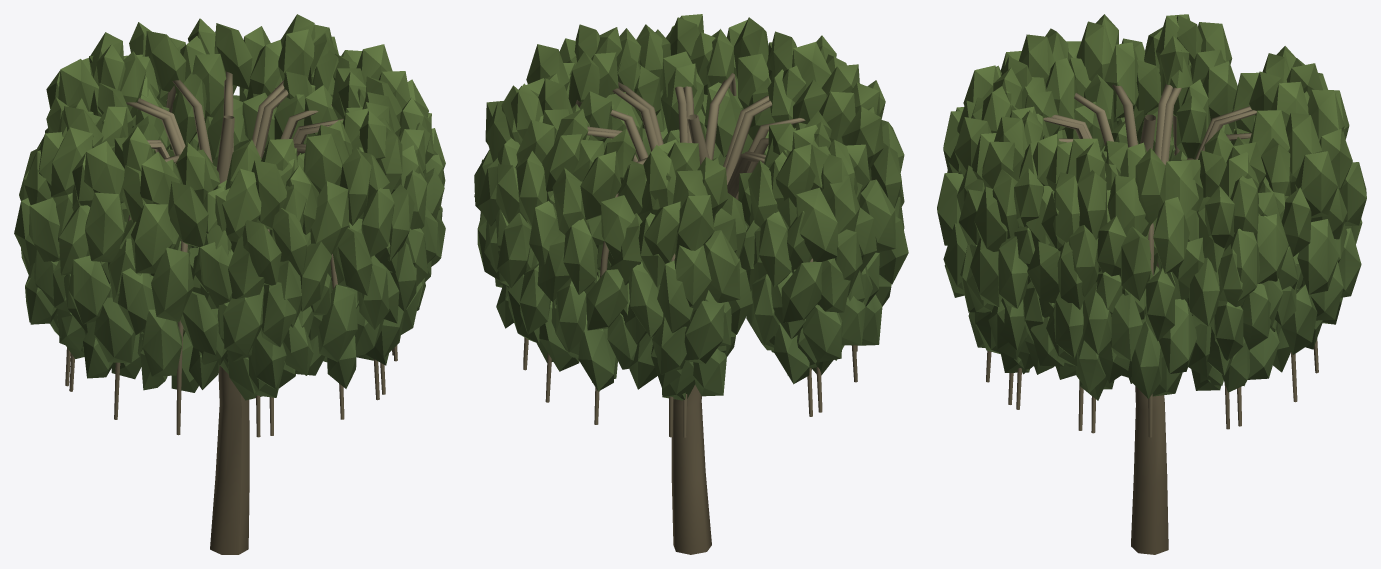
The model's file is climate-willow.glb.
3 renders of one model, left to right at view 1: azimuth 30°, elevation 25°; view 2: azimuth 150°, elevation 25°; view 3: azimuth 270°, elevation 25°, orthographic.
Visible parts, largest first — view 1: willow-1, willow-0; view 2: willow-1, willow-0; view 3: willow-0, willow-1.
Boxes of the visible parts, x1,y1,x2,y2 form: willow-1: (14, 18, 445, 437); willow-0: (21, 14, 445, 554); willow-1: (474, 14, 908, 437); willow-0: (474, 17, 904, 554); willow-0: (943, 15, 1366, 554); willow-1: (937, 14, 1349, 430).
Bounding box in the file's own units: 0.8587 × 1 × 0.8376.
